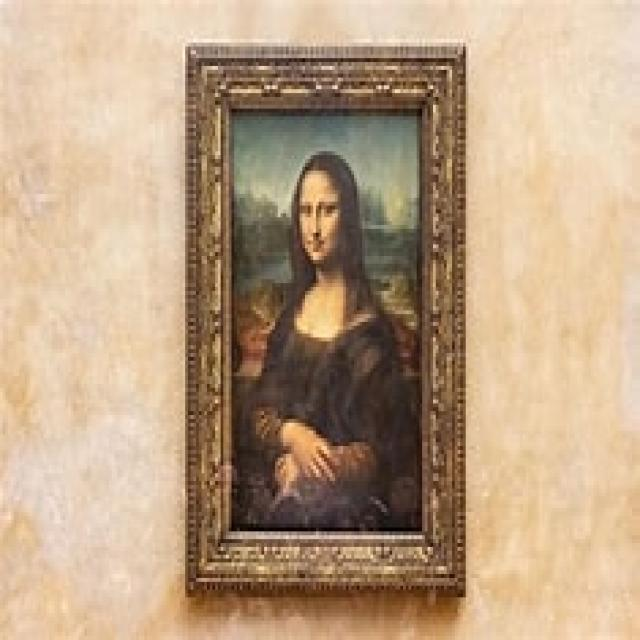monalisa: (188, 44, 458, 586)
